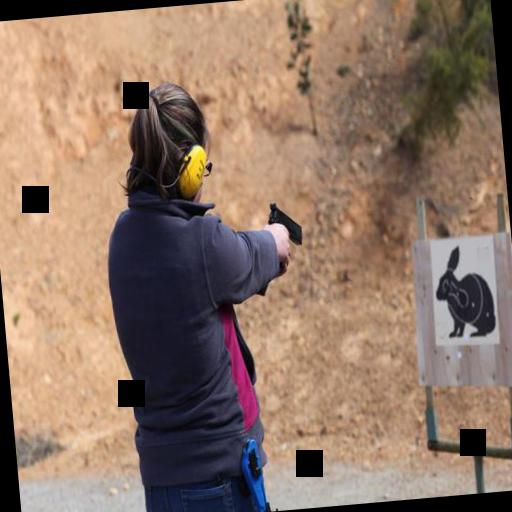Handgun: (264, 195, 307, 257)
